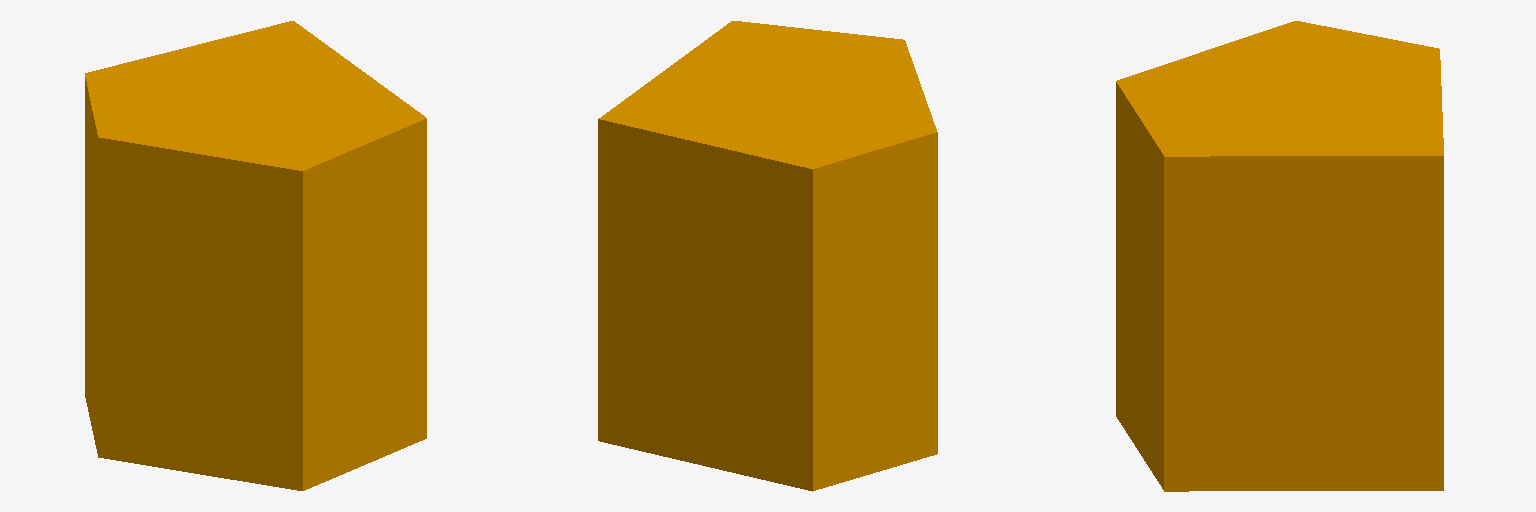
The robot description file, URDF, robot "object":
<?xml version="1.0"?>
<robot name="object">
  <link name="object">
    <visual>
      <origin xyz="0 0 0"/>
      <geometry>
        <mesh filename="meshes/generated/col_097.obj" scale="0.03 0.03 0.03"/>
      </geometry>
    </visual>
    <collision>
      <origin xyz="0 0 0"/>
      <geometry>
        <mesh filename="meshes/generated/col_097.obj" scale="0.03 0.03 0.03"/>
      </geometry>
    </collision>
    <inertial>
      <density value="1000.0"/>
    </inertial>
  </link>
</robot>

--- What the picture shows (computed from the rendered views, not written in the file) ---
Views: 3 orthographic renders of the robot side by side, from view 1: azimuth 30°, elevation 25°; view 2: azimuth 150°, elevation 25°; view 3: azimuth 270°, elevation 25°.
Robot: object — 1 links, 0 joints (none); root link object; default pose: every joint at zero.
Visible links, largest first — view 1: object; view 2: object; view 3: object.
Link boxes in pixels (left/top/right/bottom): object: left=85, top=21, right=426, bottom=490; object: left=598, top=21, right=937, bottom=491; object: left=1116, top=21, right=1443, bottom=491.
Bounding box of the posed robot: 0.0523 × 0.0533 × 0.06 m (x, y, z).
Meshes: 1 distinct files referenced, 1 mesh visuals loaded (1 OBJ).
